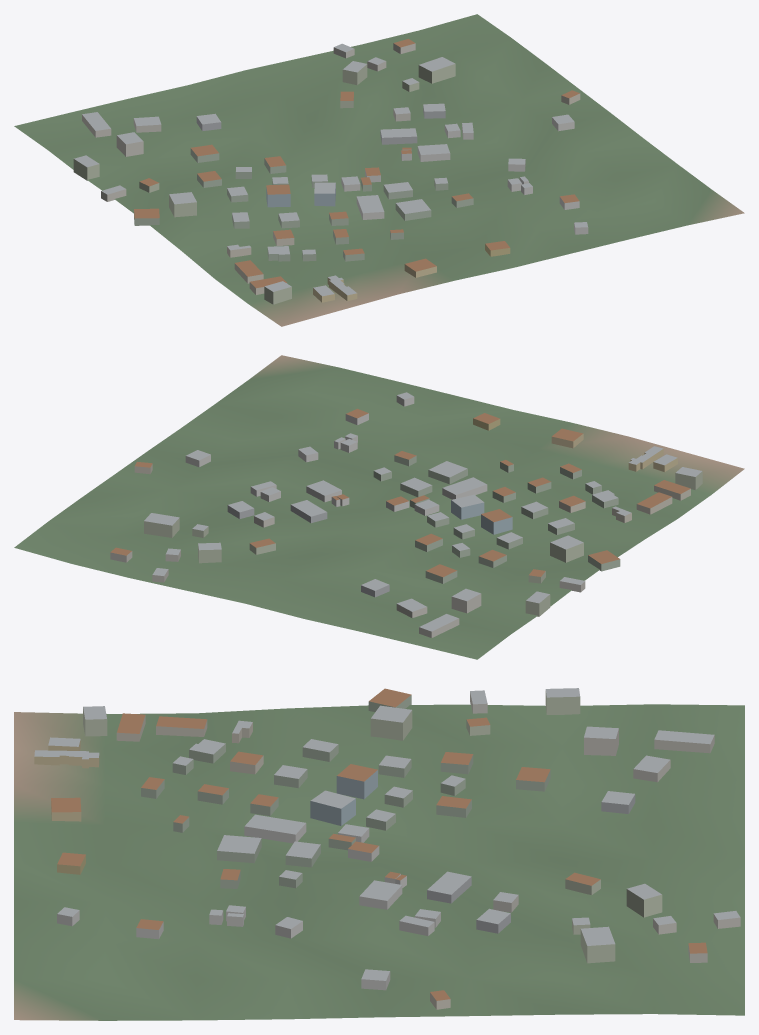
The picture shows the model from 3 angles, top to bottom: view 1: azimuth 30°, elevation 25°; view 2: azimuth 150°, elevation 25°; view 3: azimuth 270°, elevation 25°; orthographic projection. The views are drawn at different scales.
Visible parts, largest first — view 1: Lo; view 2: Lo; view 3: Lo.
Part boxes in pixels (x1,y1,x2,y2): Lo: (14,14,744,326); Lo: (14,355,744,659); Lo: (14,688,744,1020).
Size of the model in its own units: 262 by 10.22 by 256.
